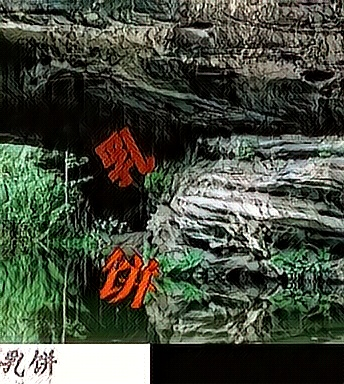B1FD: (95, 248, 160, 312)
C8E9: (94, 125, 159, 189)
